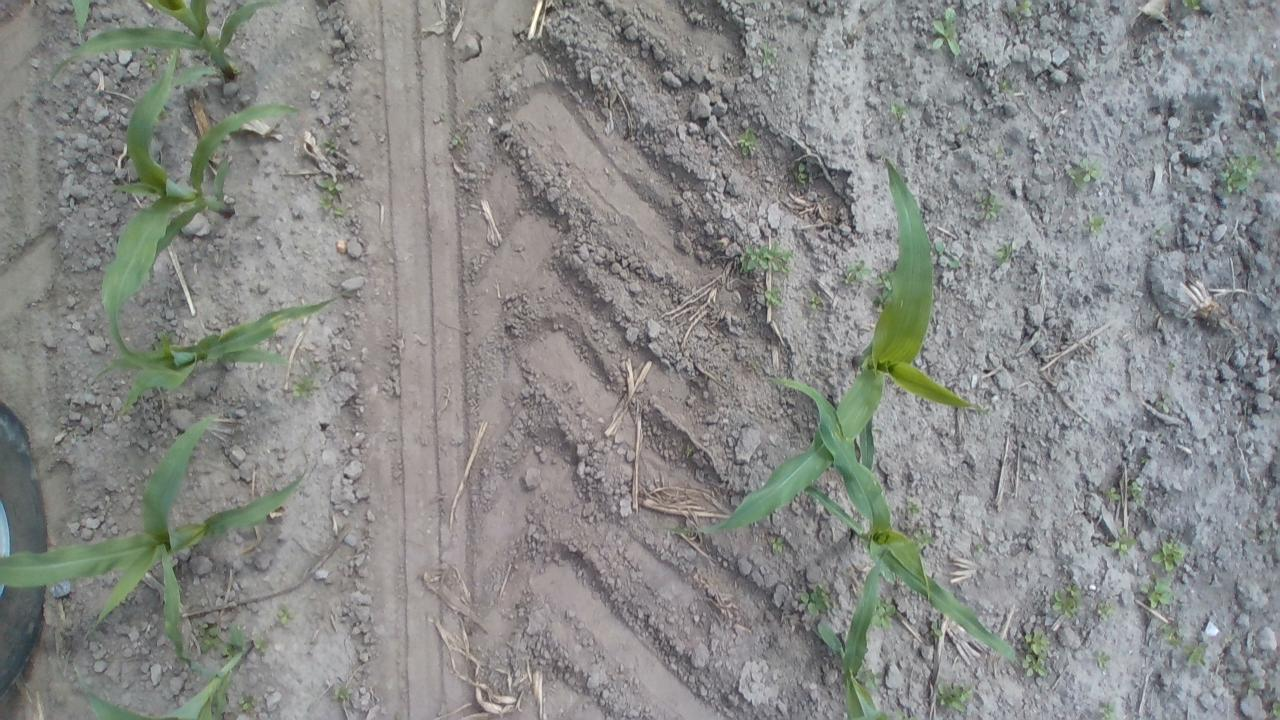Maize: (658, 148, 991, 548), (1, 407, 310, 661), (766, 368, 1020, 668), (99, 43, 302, 322), (96, 286, 355, 420), (44, 0, 306, 85), (71, 636, 266, 720), (814, 549, 907, 720)
Weeds: (925, 4, 969, 62), (736, 240, 802, 278), (1220, 150, 1259, 198), (1136, 570, 1178, 611), (1045, 577, 1085, 619), (932, 677, 976, 715), (1021, 629, 1052, 679), (1064, 152, 1102, 190), (929, 236, 967, 274), (798, 580, 836, 618), (290, 360, 324, 402), (317, 176, 347, 219), (1152, 536, 1184, 572), (988, 72, 1026, 102), (192, 619, 222, 655), (972, 188, 1002, 224), (870, 596, 900, 632), (1104, 526, 1136, 555), (752, 43, 778, 77), (730, 126, 760, 155), (223, 622, 248, 656), (842, 258, 868, 290), (992, 236, 1018, 266), (1184, 638, 1210, 668), (906, 524, 936, 550), (1156, 622, 1186, 646), (789, 158, 810, 192), (876, 264, 898, 296), (1004, 2, 1036, 24), (886, 94, 910, 123), (246, 631, 272, 657), (1148, 220, 1169, 252), (273, 605, 303, 627), (234, 690, 260, 715), (1093, 596, 1117, 623), (1127, 478, 1149, 507), (1080, 214, 1106, 238), (446, 124, 466, 155), (1093, 701, 1124, 720), (1090, 648, 1112, 674), (138, 50, 160, 74), (761, 286, 785, 308), (802, 290, 824, 312), (766, 534, 789, 555), (320, 132, 340, 155), (333, 680, 352, 704), (1265, 137, 1280, 167), (1100, 482, 1118, 507), (1244, 674, 1262, 698), (968, 537, 992, 555), (928, 619, 946, 642), (903, 499, 924, 516), (1266, 695, 1280, 719), (1155, 392, 1170, 413)
